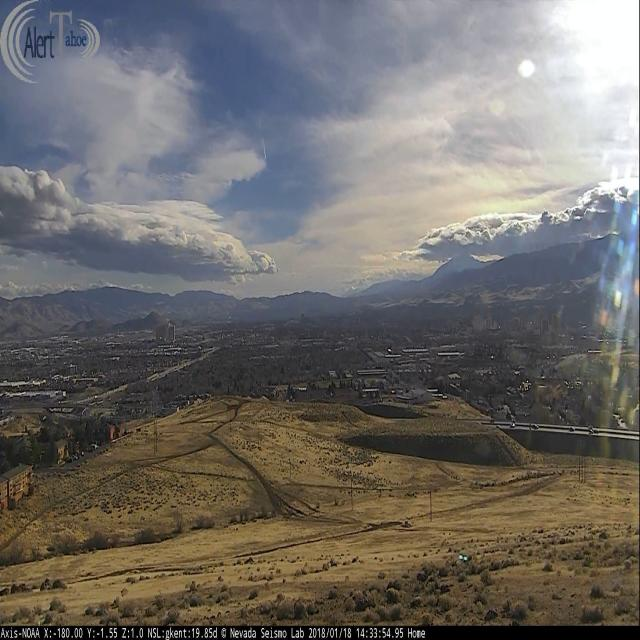smoke: (228, 315, 232, 319)
